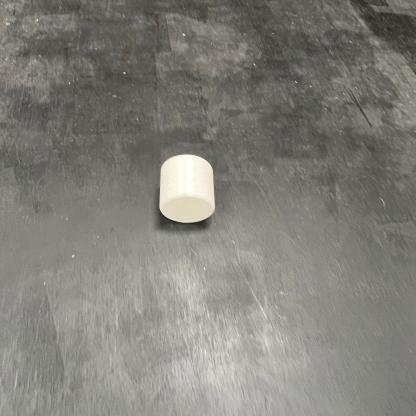white cylinder: (158, 153, 216, 225)
